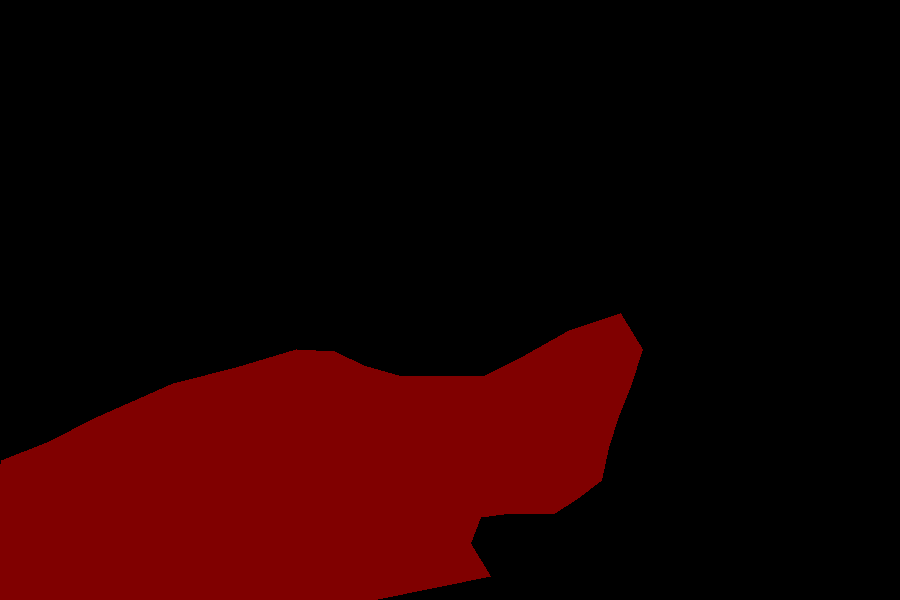fire: (0, 313, 642, 599)
